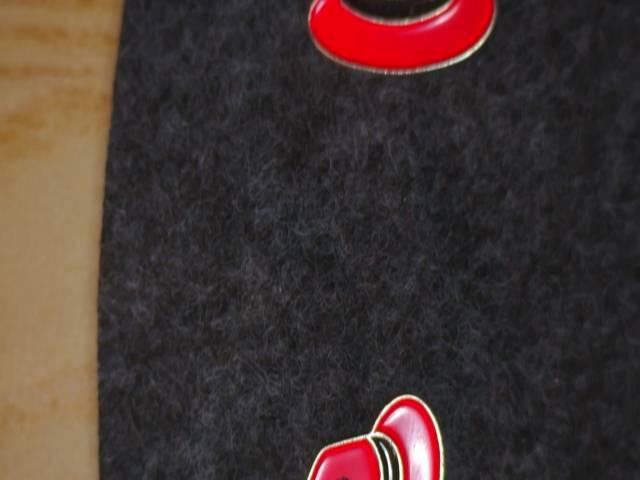Red-Hat: (256, 0, 513, 104), (275, 377, 500, 480)
